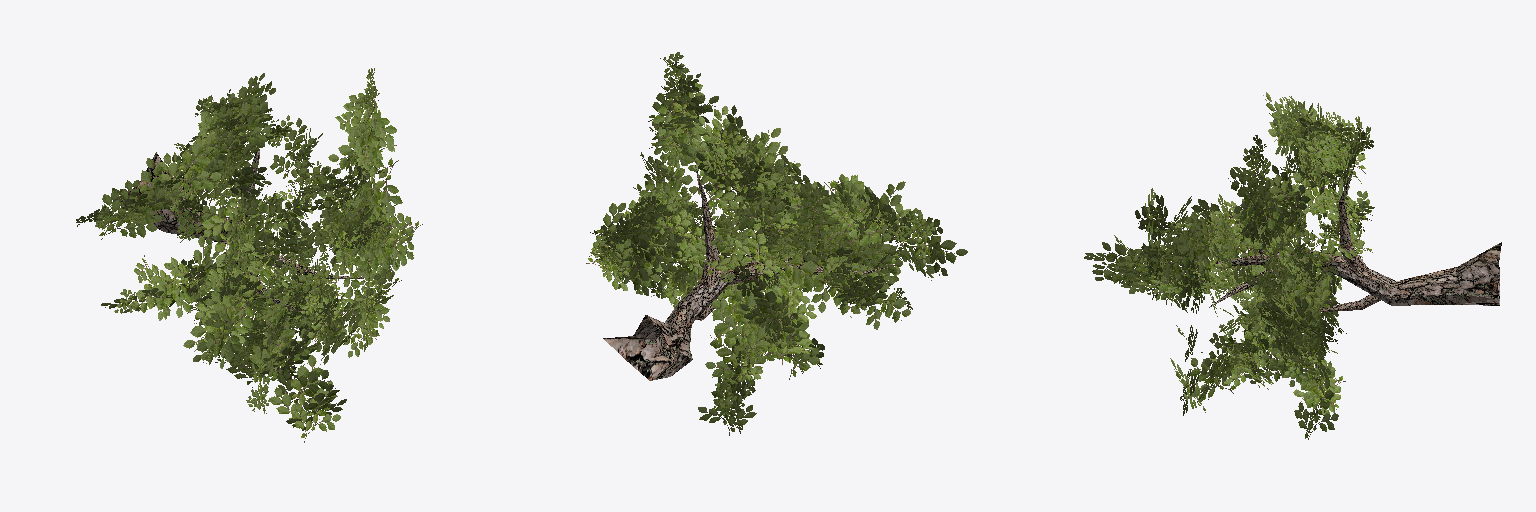
3 views of the same model, side by side, from view 1: azimuth 30°, elevation 25°; view 2: azimuth 150°, elevation 25°; view 3: azimuth 270°, elevation 25° (orthographic).
Visible parts, largest first — view 1: Circle_1, Circle_0; view 2: Circle_1, Circle_0; view 3: Circle_1, Circle_0.
Boxes of the visible parts, <box> form: Circle_1: <box>76,68,422,442</box>; Circle_0: <box>114,145,363,311</box>; Circle_1: <box>586,52,967,435</box>; Circle_0: <box>603,165,887,380</box>; Circle_1: <box>1084,92,1374,439</box>; Circle_0: <box>1180,164,1501,311</box>.
Bounding box in the file's own units: 1.75 × 1.65 × 1.84.
2 materials, 2 textured.